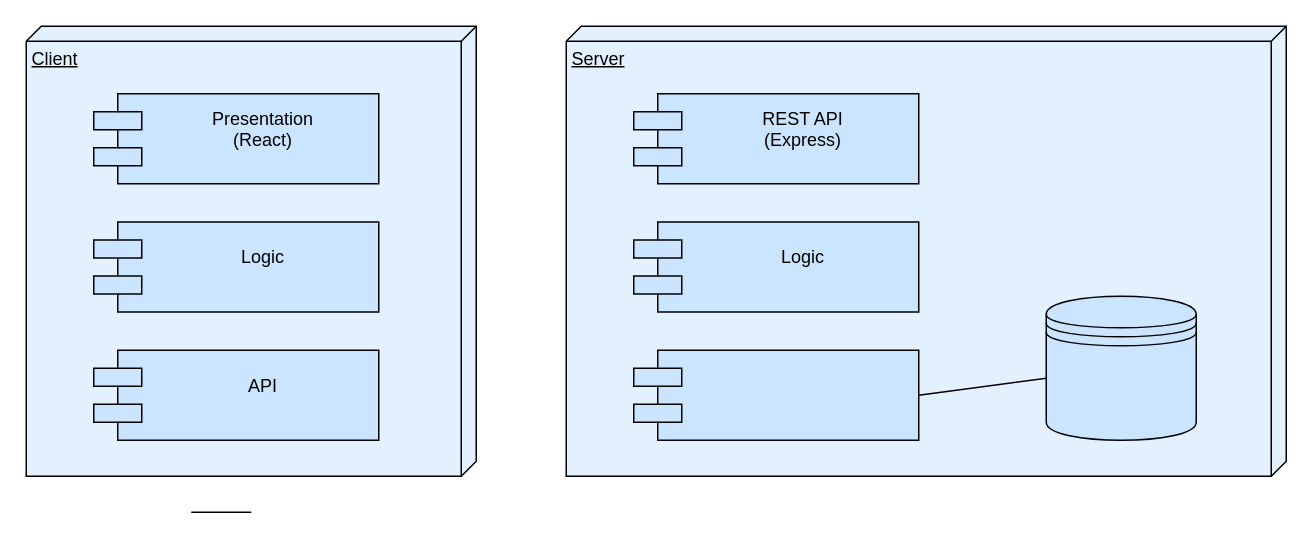
The diagram is 1313 pixels wide and 545 high, and some of its shapes have lost their labels. Here are the shapes that lost their labels. From the top down, the centre of each, then its label:
At (x=1120, y=367): "MongoDB".
At (x=775, y=394): "Data Access (Mongoose)".
